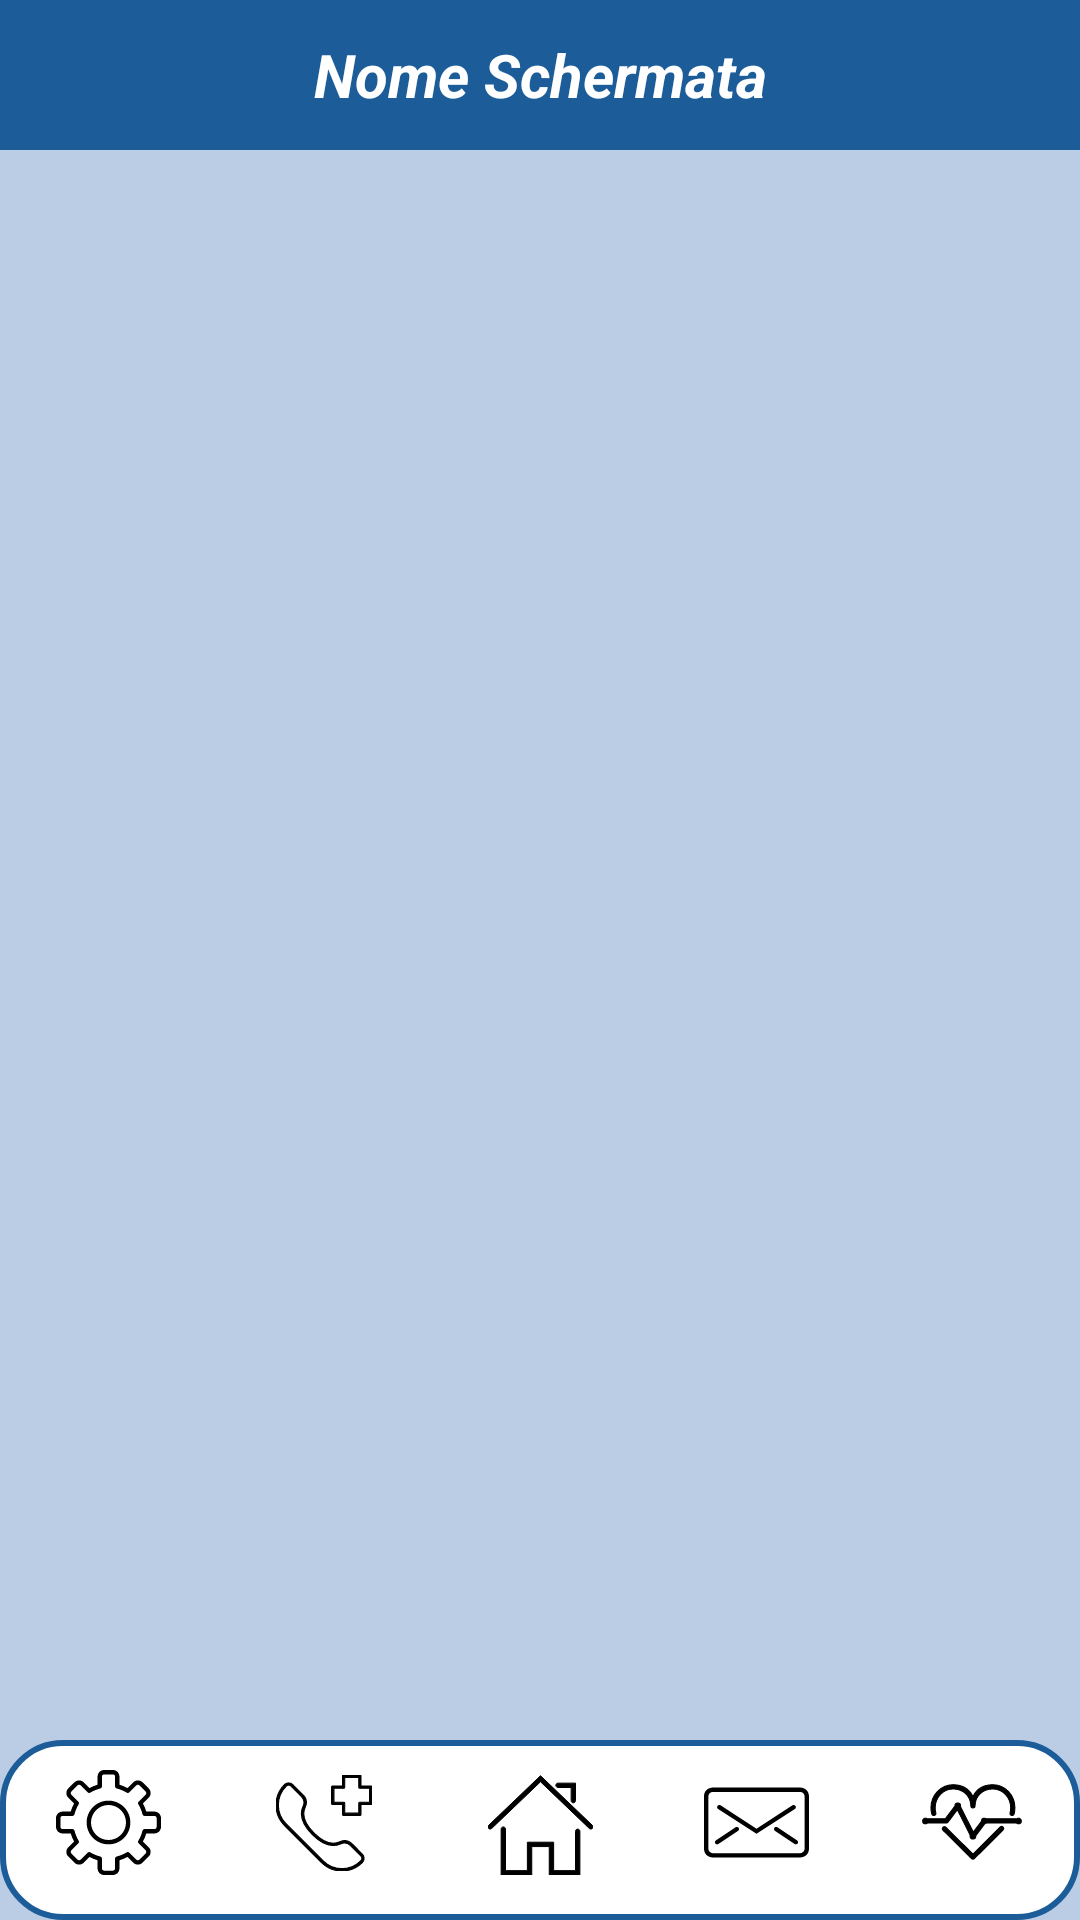

Icons on this 1080px x 1920px Android screen, each with the point to tap as (x,y):
home: (540,1825)
message: (756,1822)
misurazioni: (972,1822)
setting: (108,1822)
sos: (324,1823)
